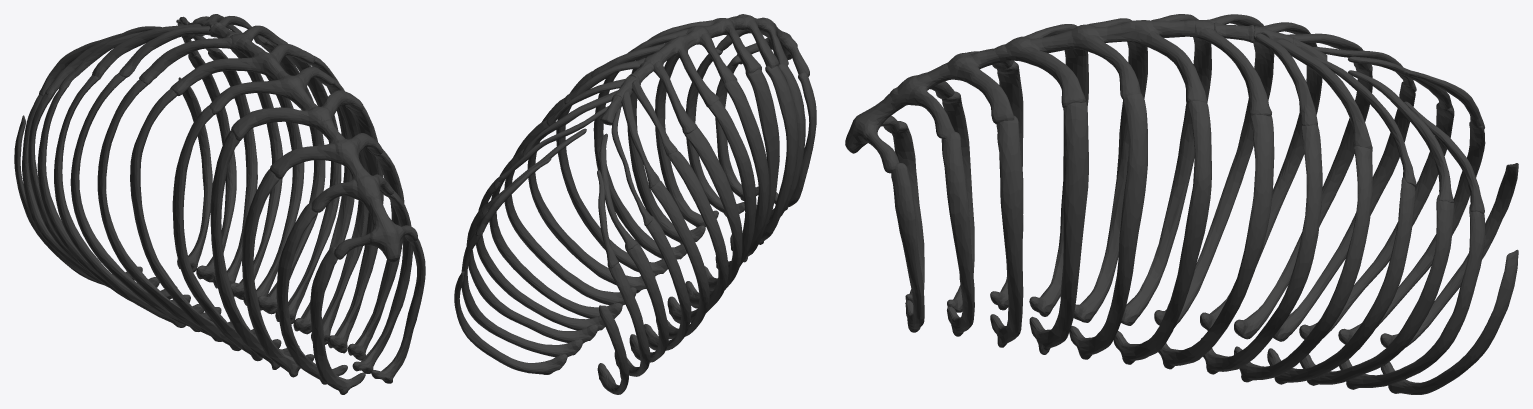
Rendered from b_rib_cage.glb.
3 views of the same model, side by side, from view 1: azimuth 30°, elevation 25°; view 2: azimuth 150°, elevation 25°; view 3: azimuth 270°, elevation 25° (orthographic). The views are drawn at different scales.
Visible parts, largest first — view 1: b_rib_cage; view 2: b_rib_cage; view 3: b_rib_cage.
Boxes of the visible parts, x1,y1,x2,y2 form: b_rib_cage: (14, 14, 425, 394); b_rib_cage: (454, 14, 816, 394); b_rib_cage: (845, 14, 1518, 394).
Size of the model in its own units: 0.00493 by 0.00584 by 0.0101.
Materials: 1 (1 with a texture image).
